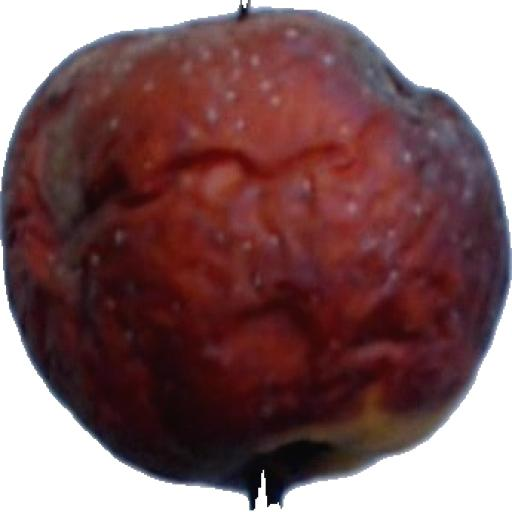apple-overripe: (0, 0, 512, 500)
